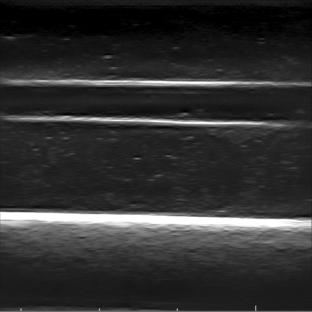vessel: (0, 77, 312, 130)
